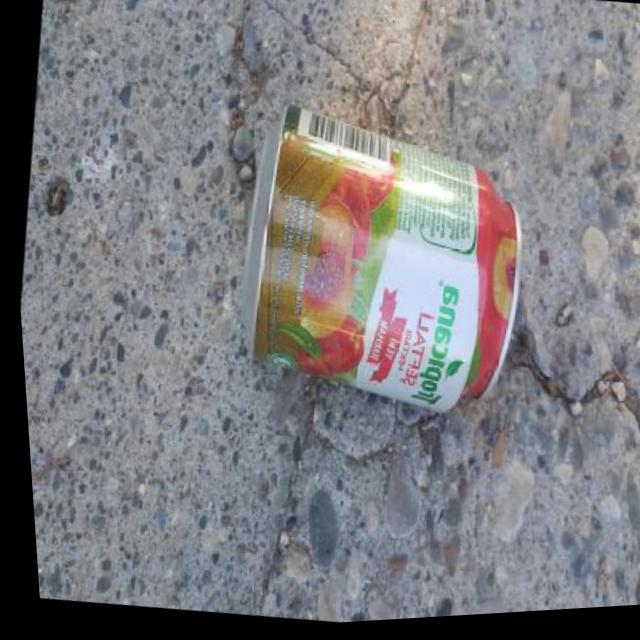metal: (198, 171, 562, 512)
